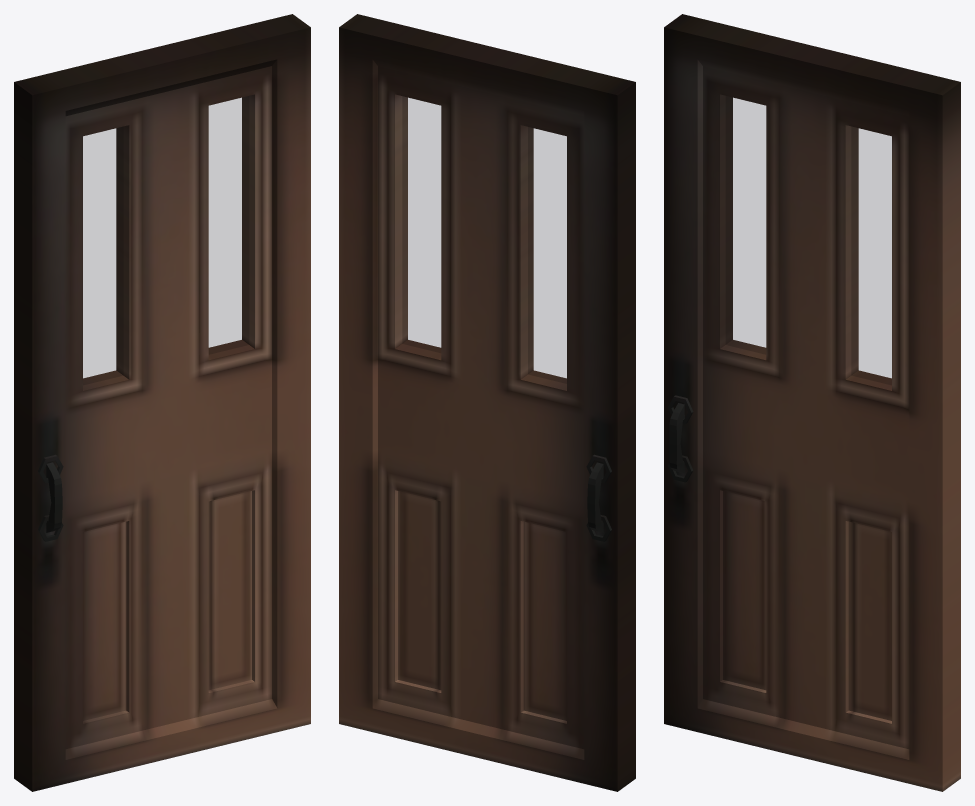
The model's file is door_002.glb.
The picture shows the model from 3 angles, left to right: view 1: azimuth 30°, elevation 25°; view 2: azimuth 150°, elevation 25°; view 3: azimuth 330°, elevation 25°; orthographic projection.
Parts seen in each view (by area): view 1: Front Door_002; view 2: Front Door_002; view 3: Front Door_002.
Boxes of the visible parts, x1,y1,x2,y2 form: Front Door_002: (14, 14, 310, 791); Front Door_002: (339, 14, 635, 791); Front Door_002: (664, 14, 960, 791).
Size of the model in its own units: 0.8257 by 1.97 by 0.1836.
Materials: 2 (1 with a texture image).
